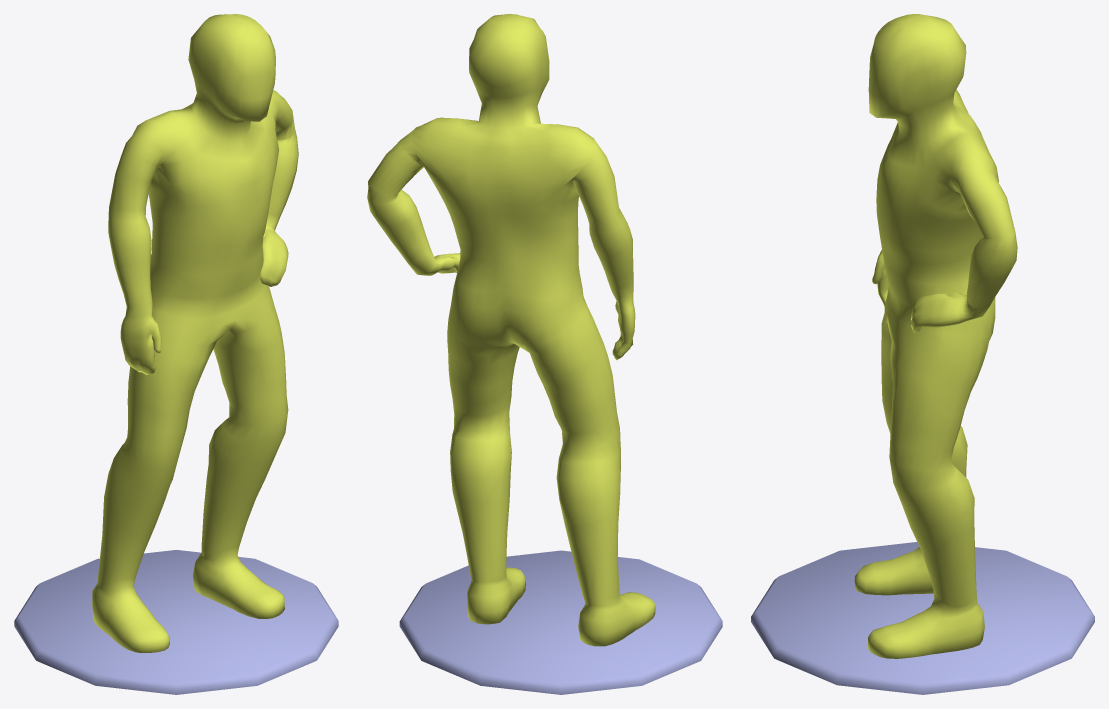
Rendered from mannequin_7.fbx.
3 views of the same model, side by side, from view 1: azimuth 30°, elevation 25°; view 2: azimuth 150°, elevation 25°; view 3: azimuth 270°, elevation 25° (orthographic). The views are drawn at different scales.
Parts seen in each view (by area): view 1: mannequin_7; view 2: mannequin_7; view 3: mannequin_7.
Part boxes in pixels (x1,y1,x2,y2): mannequin_7: (14,14,338,694); mannequin_7: (367,14,722,694); mannequin_7: (751,14,1094,694).
Size of the model in its own units: 7.11 by 13.64 by 6.73.
